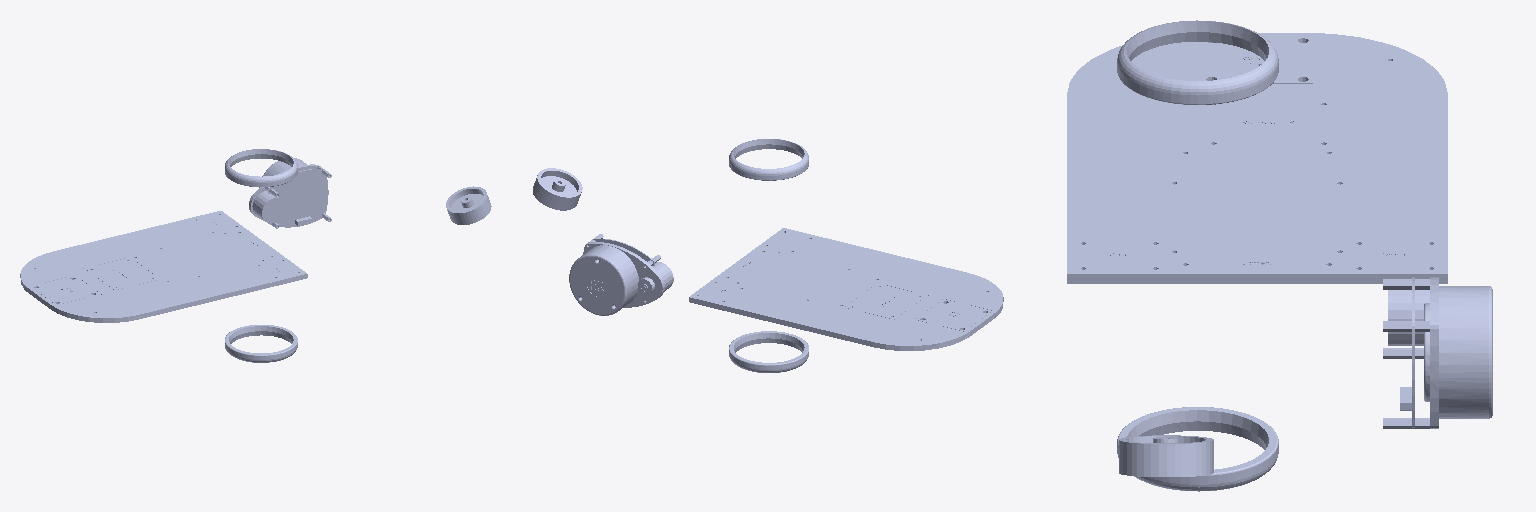
robot.urdf — rudolph_v4:
<?xml version="1.0" encoding="utf-8"?>
<!-- This URDF was automatically created by SolidWorks to URDF Exporter! Originally created by [author] ([email redacted])
     Commit Version: 1.6.0-4-g7f85cfe  Build Version: 1.6.7995.38578
     For more information, please see http://wiki.ros.org/sw_urdf_exporter -->
<robot
  name="rudolph_v4">
  <link
    name="base_link">
    <inertial>
      <origin
        xyz="0.0822244838639973 0.0128168335616271 0.000136671970985585"
        rpy="0 0 0" />
      <mass
        value="0.758326893106696" />
      <inertia
        ixx="0.00162129691405741"
        ixy="5.73236474515784E-07"
        ixz="-1.33780486379509E-06"
        iyy="0.0045442711593911"
        iyz="1.91062463696691E-07"
        izz="0.00299515938580574" />
    </inertial>
    <visual>
      <origin
        xyz="0 0 0"
        rpy="0 0 0" />
      <geometry>
        <mesh
          filename="package://rudolph_v4/meshes/base_link.STL" />
      </geometry>
      <material
        name="">
        <color
          rgba="0.792156862745098 0.819607843137255 0.933333333333333 1" />
      </material>
    </visual>
    <collision>
      <origin
        xyz="0 0 0"
        rpy="0 0 0" />
      <geometry>
        <mesh
          filename="package://rudolph_v4/meshes/base_link.STL" />
      </geometry>
    </collision>
  </link>
  <link
    name="base_laser">
    <inertial>
      <origin
        xyz="-0.00676641398454258 -0.00981507539280287 -9.19718367893077E-05"
        rpy="0 0 0" />
      <mass
        value="1.33010751695787" />
      <inertia
        ixx="0.000613770576870691"
        ixy="-0.000158237807214438"
        ixz="8.01970112250505E-07"
        iyy="0.00109694905180103"
        iyz="-3.09368466835676E-06"
        izz="0.000959131136457615" />
    </inertial>
    <visual>
      <origin
        xyz="0 0 0"
        rpy="0 0 0" />
      <geometry>
        <mesh
          filename="package://rudolph_v4/meshes/base_laser.STL" />
      </geometry>
      <material
        name="">
        <color
          rgba="0.792156862745098 0.819607843137255 0.933333333333333 1" />
      </material>
    </visual>
    <collision>
      <origin
        xyz="0 0 0"
        rpy="0 0 0" />
      <geometry>
        <mesh
          filename="package://rudolph_v4/meshes/base_laser.STL" />
      </geometry>
    </collision>
  </link>
  <joint
    name="lidar"
    type="fixed">
    <origin
      xyz="0.1199 0.1111 0"
      rpy="0 0 0" />
    <parent
      link="base_link" />
    <child
      link="base_laser" />
    <axis
      xyz="0 0 0" />
  </joint>
  <link
    name="lidar_to_footprint">
    <inertial>
      <origin
        xyz="-0.0249459100005222 0.0365579440202124 0.00298344367628638"
        rpy="0 0 0" />
      <mass
        value="0.04527047104807" />
      <inertia
        ixx="2.69955110919247E-05"
        ixy="6.34387177434798E-21"
        ixz="-8.9252626146913E-07"
        iyy="2.66771115637789E-05"
        iyz="4.47588869767628E-21"
        izz="5.18129879141908E-05" />
    </inertial>
    <visual>
      <origin
        xyz="0 0 0"
        rpy="0 0 0" />
      <geometry>
        <mesh
          filename="package://rudolph_v4/meshes/lidar_to_footprint.STL" />
      </geometry>
      <material
        name="">
        <color
          rgba="0.792156862745098 0.819607843137255 0.933333333333333 1" />
      </material>
    </visual>
    <collision>
      <origin
        xyz="0 0 0"
        rpy="0 0 0" />
      <geometry>
        <mesh
          filename="package://rudolph_v4/meshes/lidar_to_footprint.STL" />
      </geometry>
    </collision>
  </link>
  <joint
    name="base_footprint"
    type="continuous">
    <origin
      xyz="0 -0.184869976584764 0"
      rpy="0 0 0" />
    <parent
      link="base_laser" />
    <child
      link="lidar_to_footprint" />
    <axis
      xyz="0.335999590456849 0 -0.941862131743723" />
  </joint>
</robot>

--- Facts derived from the render (not from the file) ---
Views: 3 orthographic renders of the robot side by side, from view 1: azimuth 30°, elevation 25°; view 2: azimuth 150°, elevation 25°; view 3: azimuth 270°, elevation 25°.
Robot: rudolph_v4 — 3 links, 2 joints (1 continuous, 1 fixed); root link base_link; default pose: all joints at 0.
Links seen in each view (by area): view 1: base_link, lidar_to_footprint, base_laser; view 2: base_link, base_laser, lidar_to_footprint; view 3: base_link, lidar_to_footprint, base_laser.
Boxes of the visible links, x1,y1,x2,y2 form: base_link: (20, 211, 307, 322); lidar_to_footprint: (225, 149, 491, 362); base_laser: (249, 158, 331, 228); base_link: (689, 228, 1003, 350); base_laser: (569, 234, 673, 315); lidar_to_footprint: (533, 139, 808, 372); base_link: (1067, 33, 1447, 283); lidar_to_footprint: (1117, 20, 1278, 491); base_laser: (1383, 277, 1492, 428).
Bounding box of the posed robot: 0.5717 × 0.2237 × 0.2379 m (x, y, z).
3 mesh visuals loaded from 3 distinct referenced files (3 binary STL).
